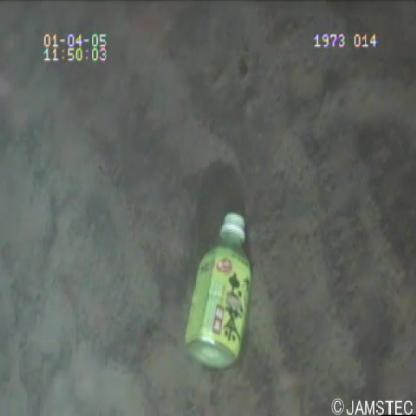Rác: (173, 207, 262, 375)
